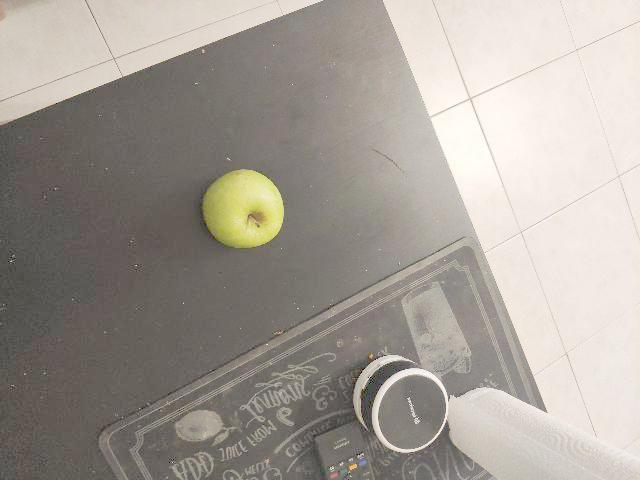apple: (208, 169, 284, 245)
